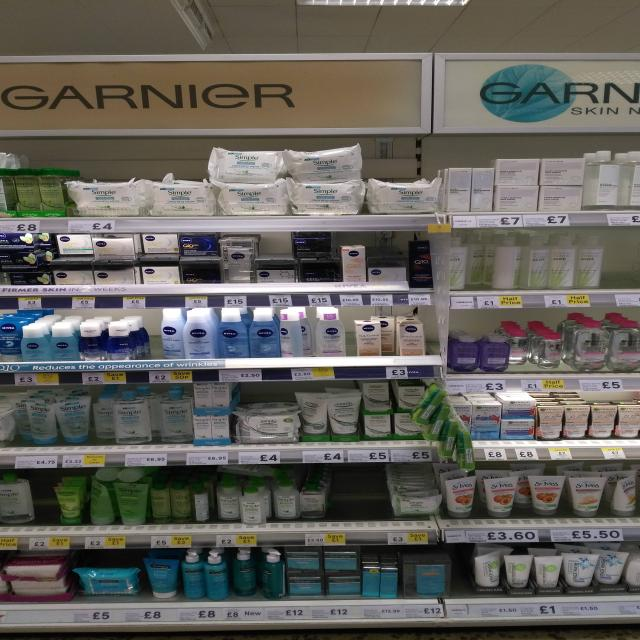void: (334, 467, 384, 532), (605, 234, 640, 305)
